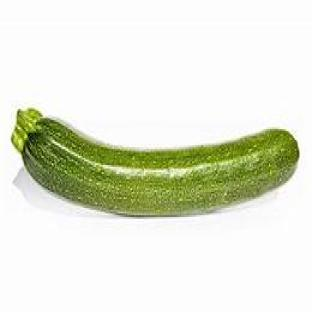Zucchini: (12, 110, 298, 215)
